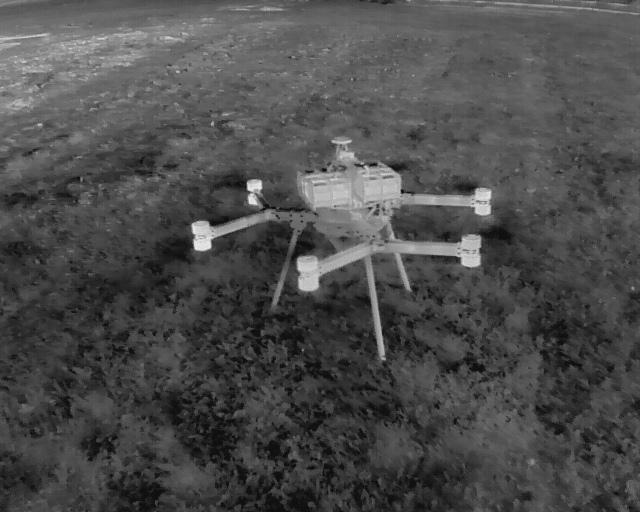drone: (165, 116, 518, 342)
